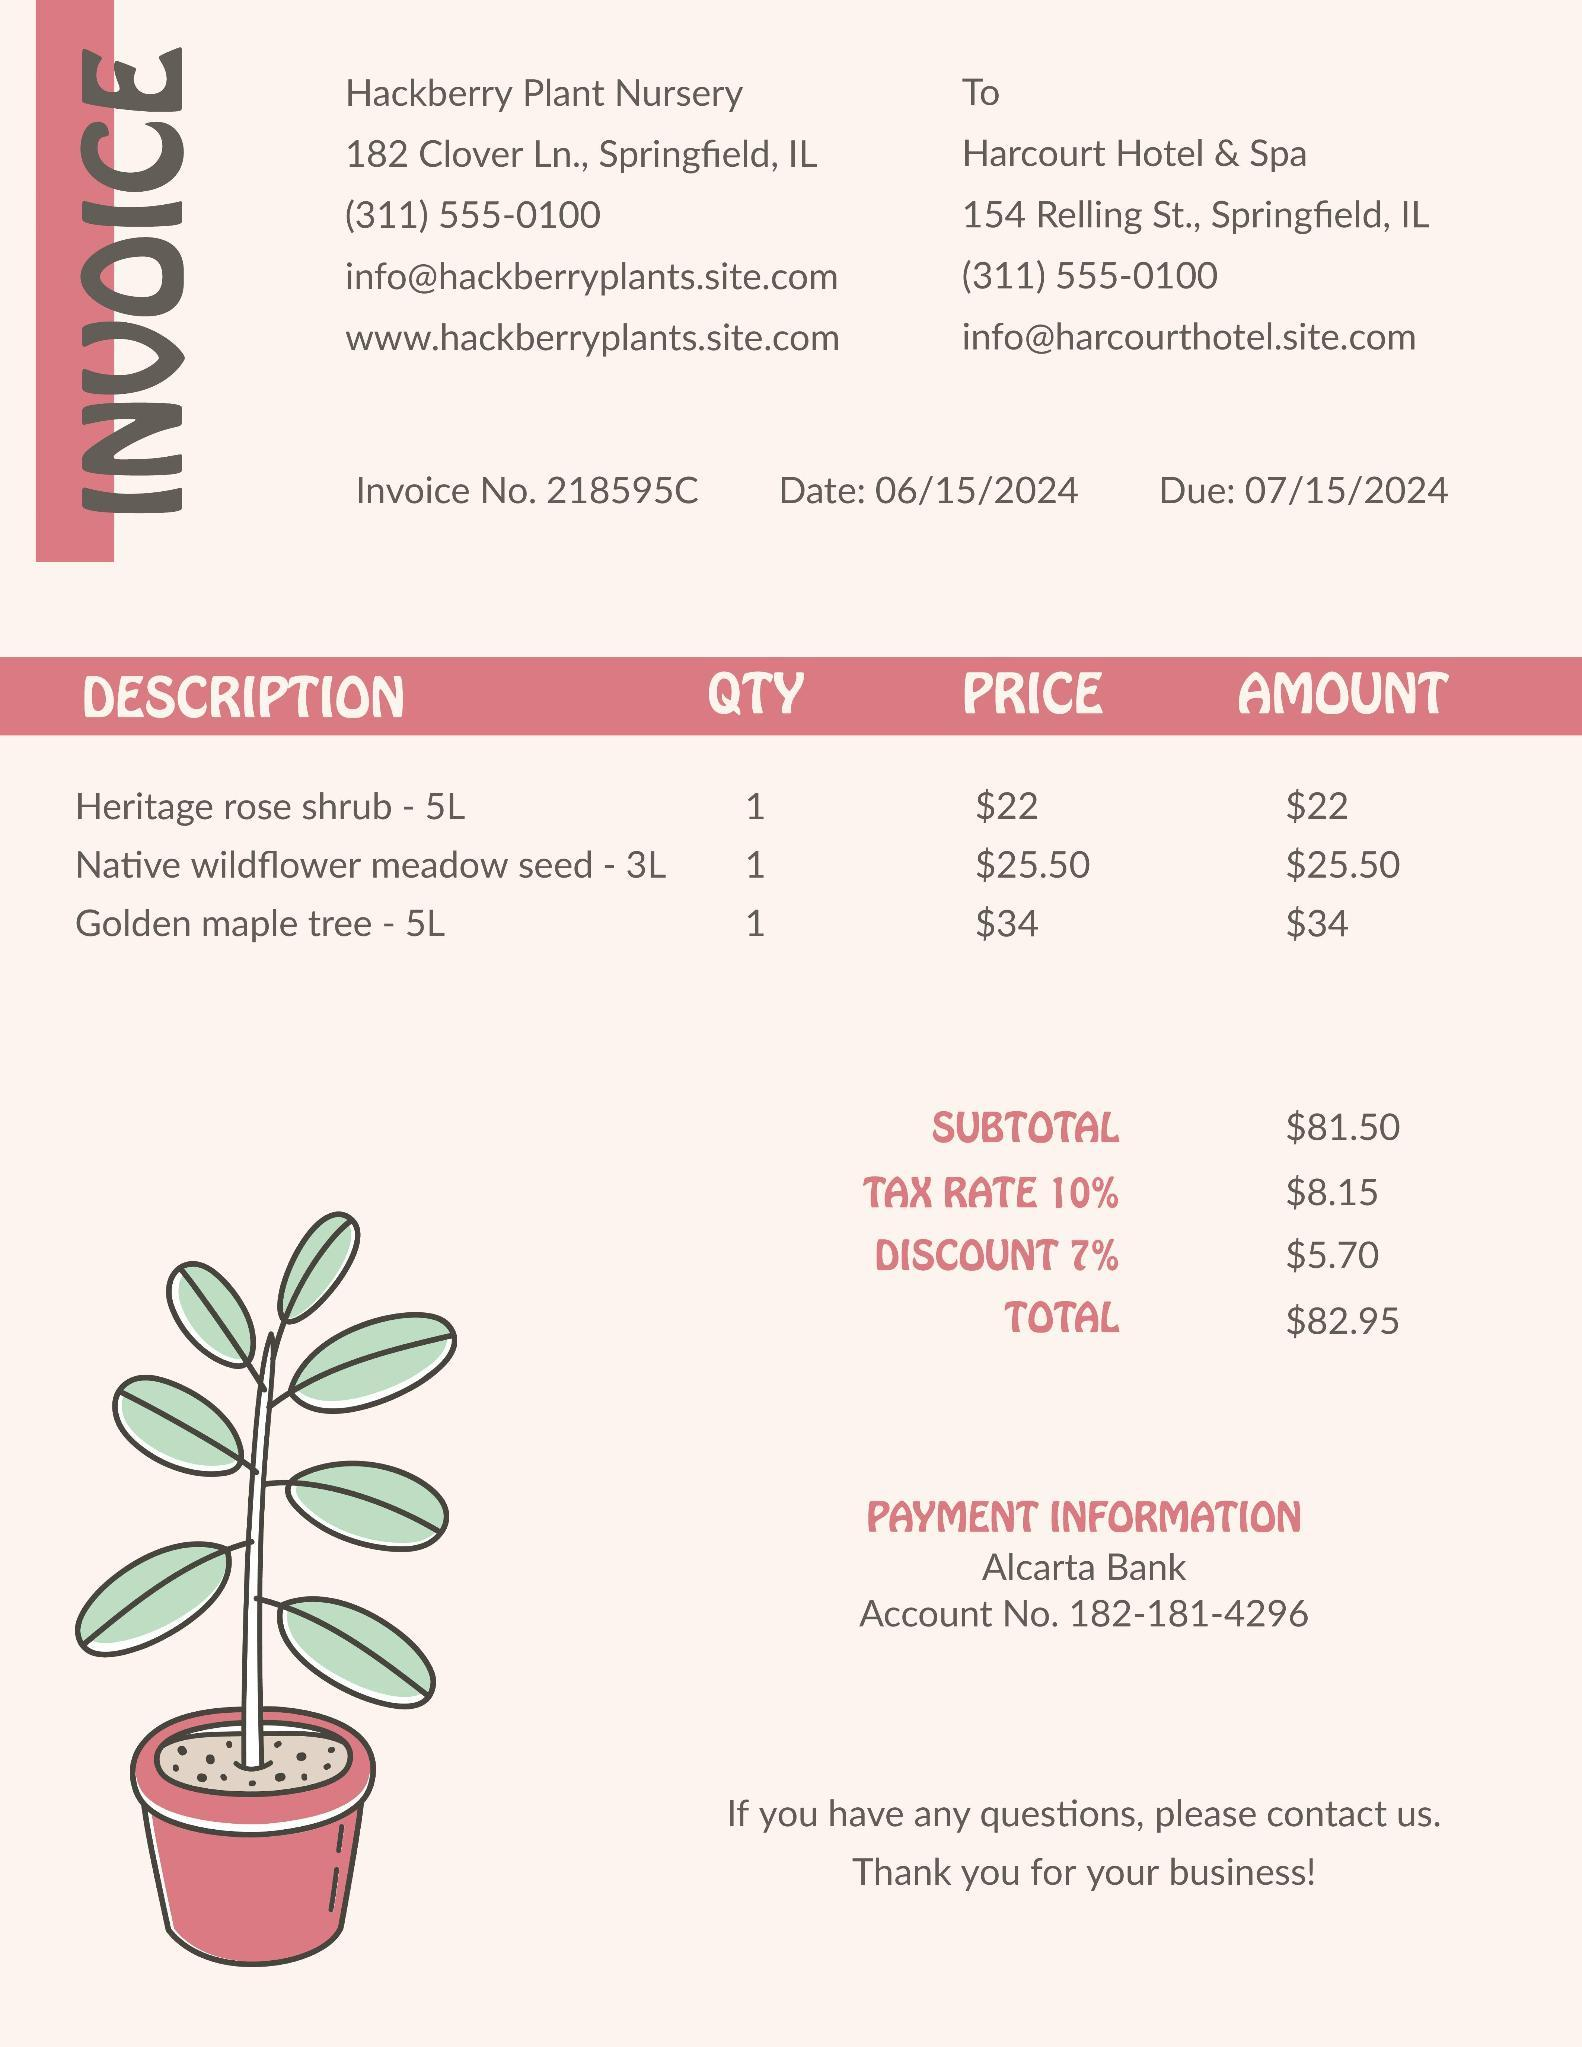ROI: (5, 654, 1565, 1005), (817, 1056, 1449, 1395), (326, 35, 856, 379), (914, 28, 1456, 362), (713, 1733, 1466, 1943), (20, 28, 230, 583), (825, 1465, 1342, 1675), (322, 430, 719, 531), (750, 430, 1089, 536), (1127, 430, 1462, 529)
